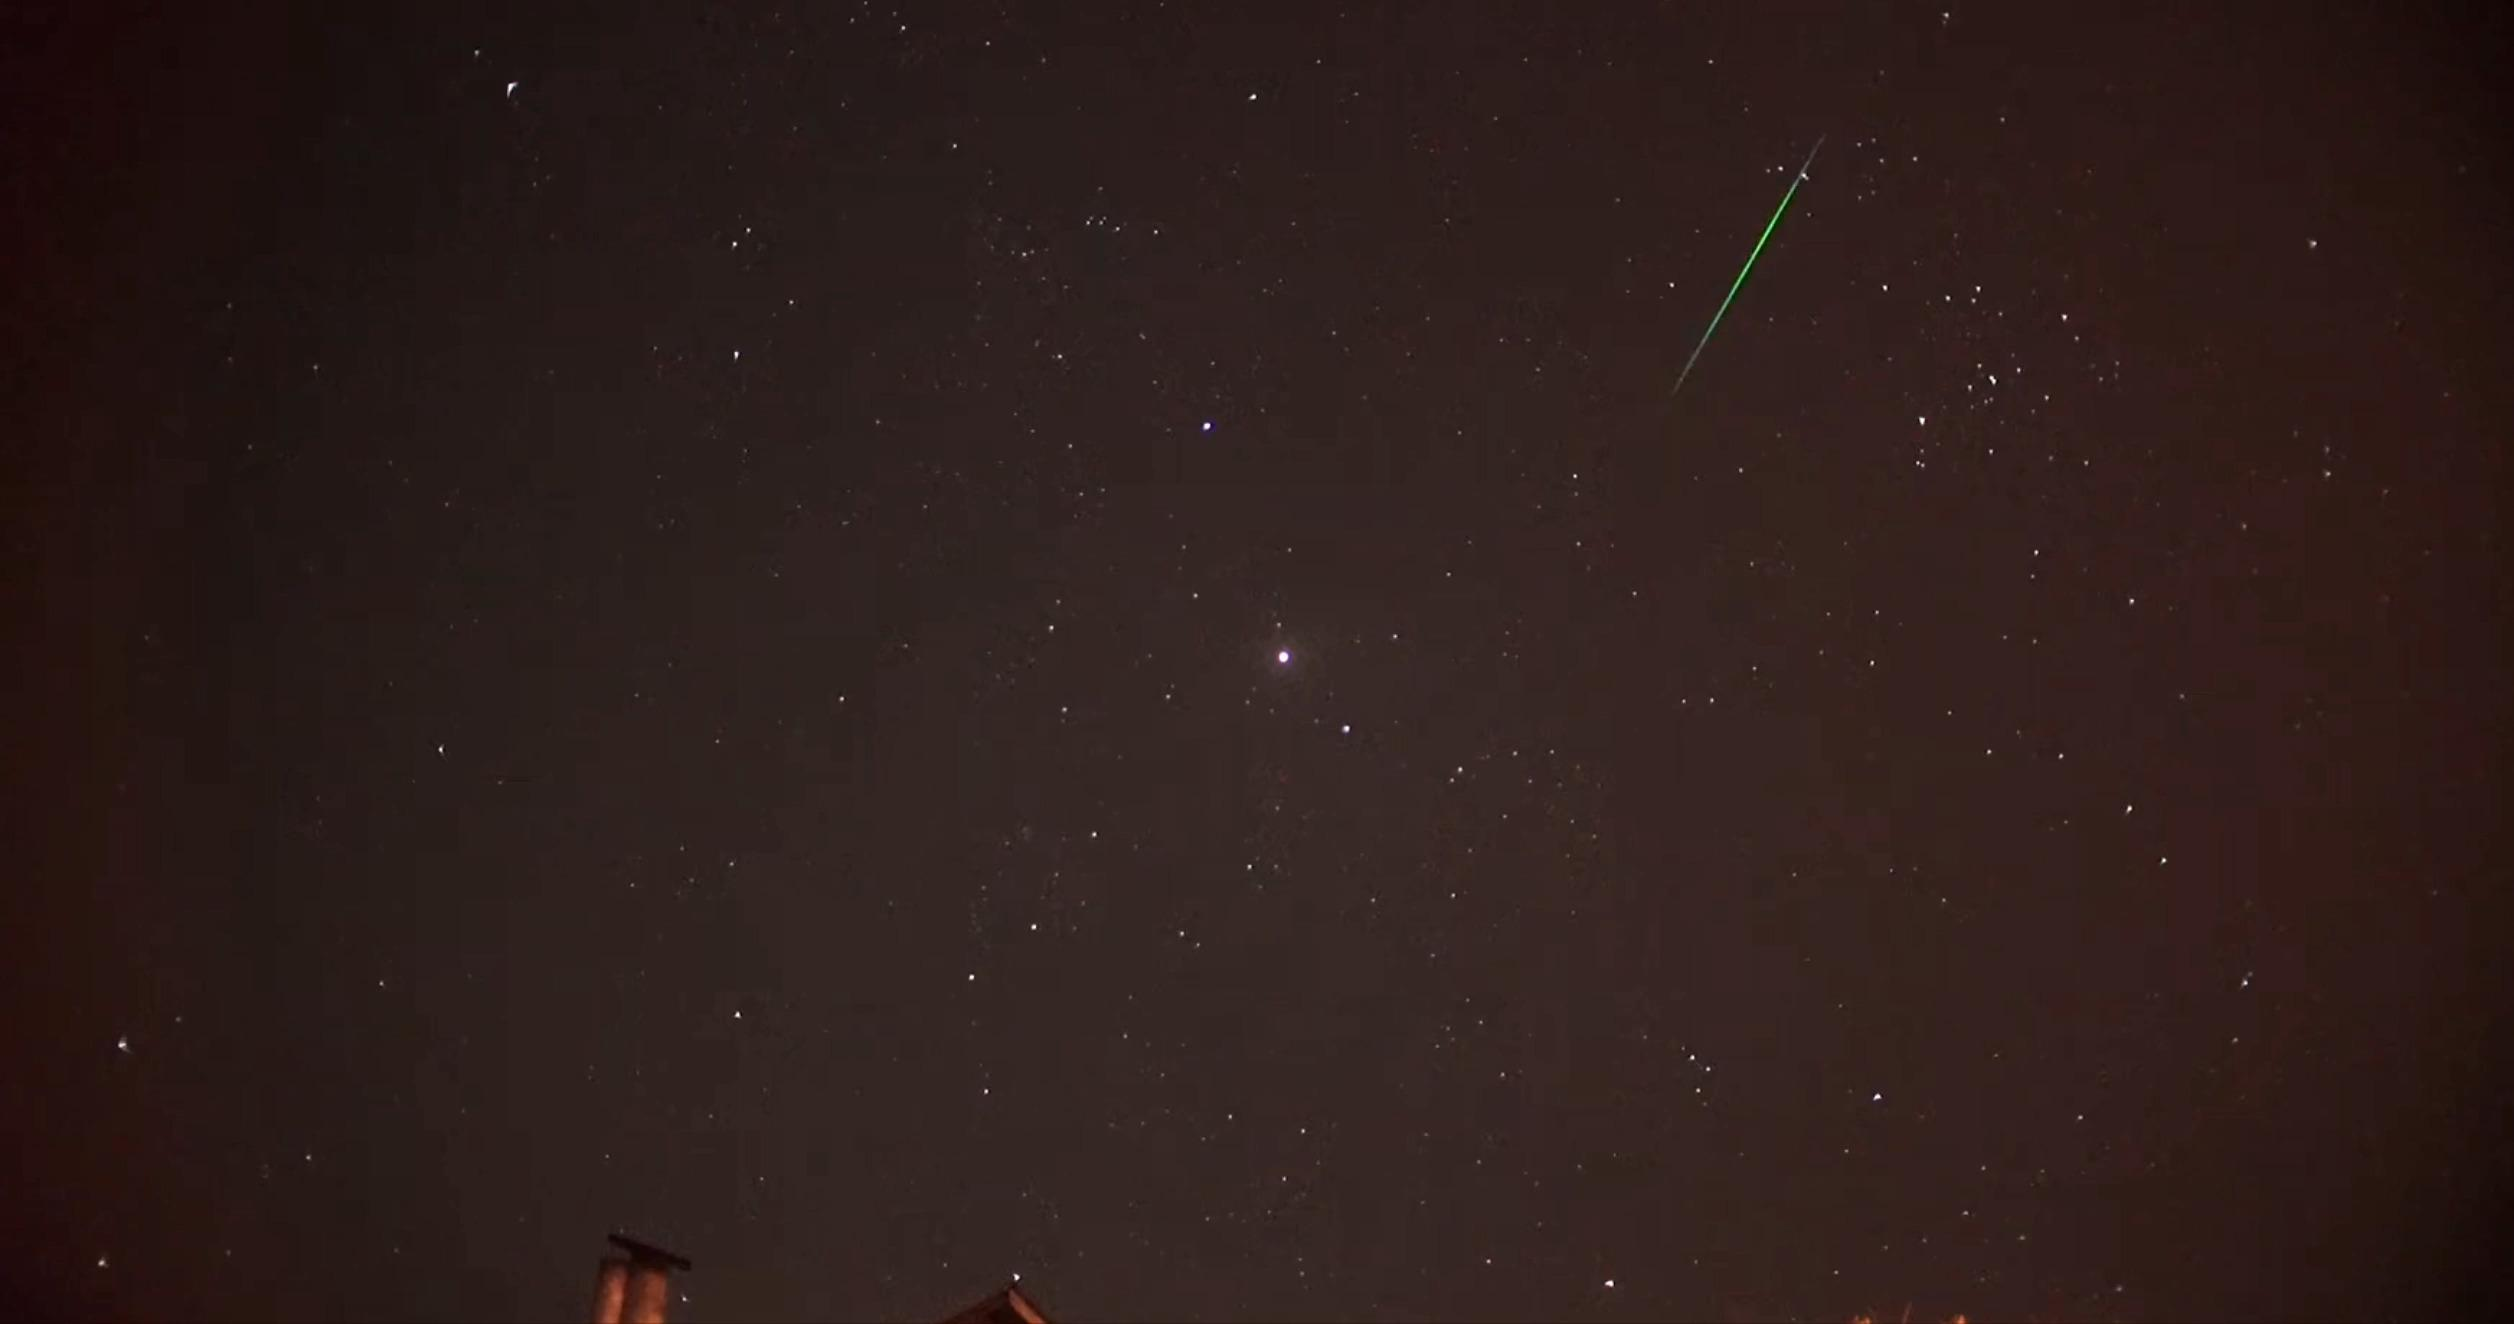meteorite: (1608, 113, 1861, 406)
